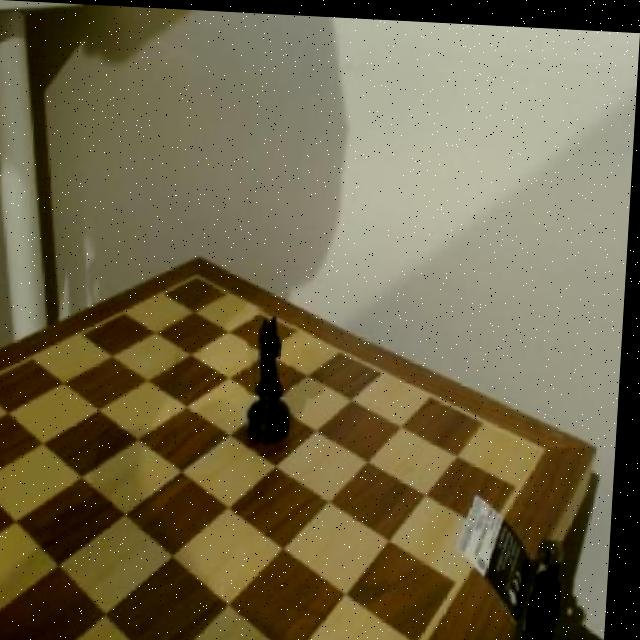black-king: (247, 305, 306, 451)
